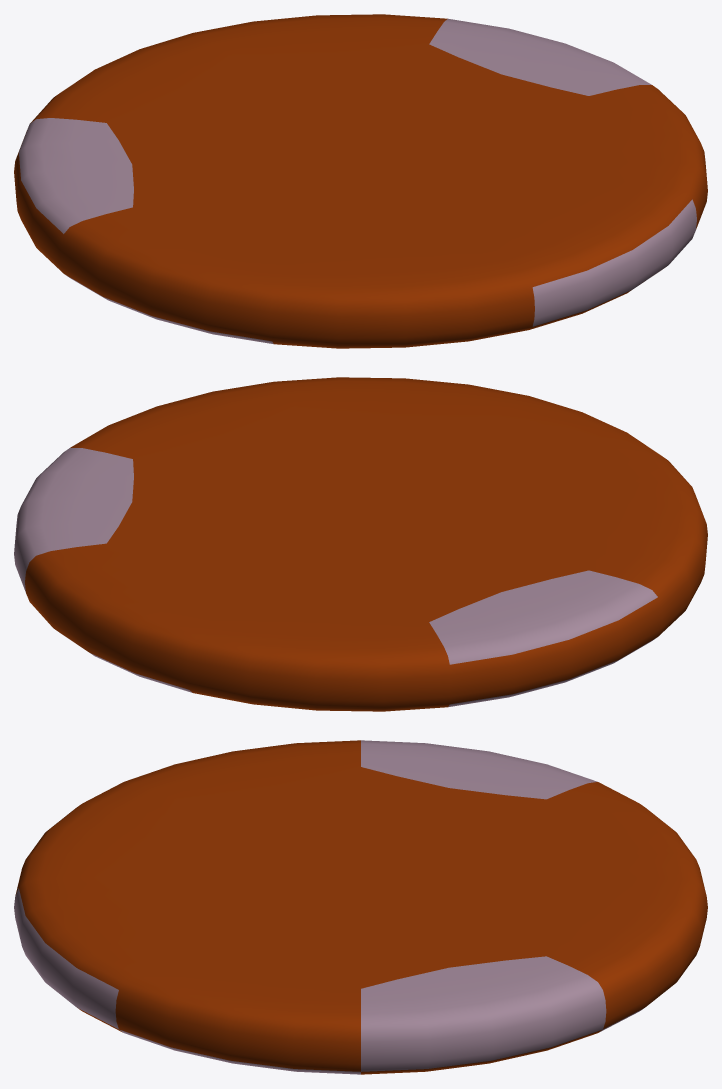
Rendered from moldyPatty.fbx.
3 renders of one model, top to bottom at view 1: azimuth 30°, elevation 25°; view 2: azimuth 150°, elevation 25°; view 3: azimuth 270°, elevation 25°, orthographic.
Parts seen in each view (by area): view 1: Circle.002; view 2: Circle.002; view 3: Circle.002.
Boxes of the visible parts, x1,y1,x2,y2 form: Circle.002: (14,14,707,348); Circle.002: (14,377,707,711); Circle.002: (14,740,707,1074).
Size of the model in its own units: 180 by 16.92 by 180.
